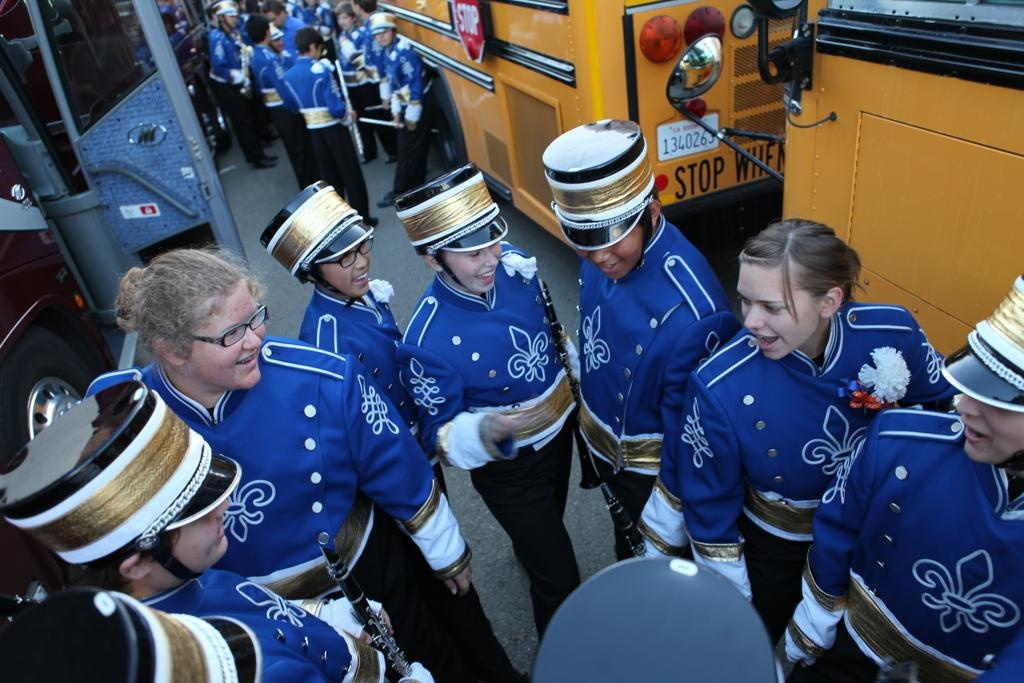human_face: (138, 448, 230, 572), (182, 294, 262, 388), (738, 262, 814, 358), (956, 368, 1022, 458), (576, 214, 642, 278), (442, 230, 500, 294), (316, 232, 370, 296)
